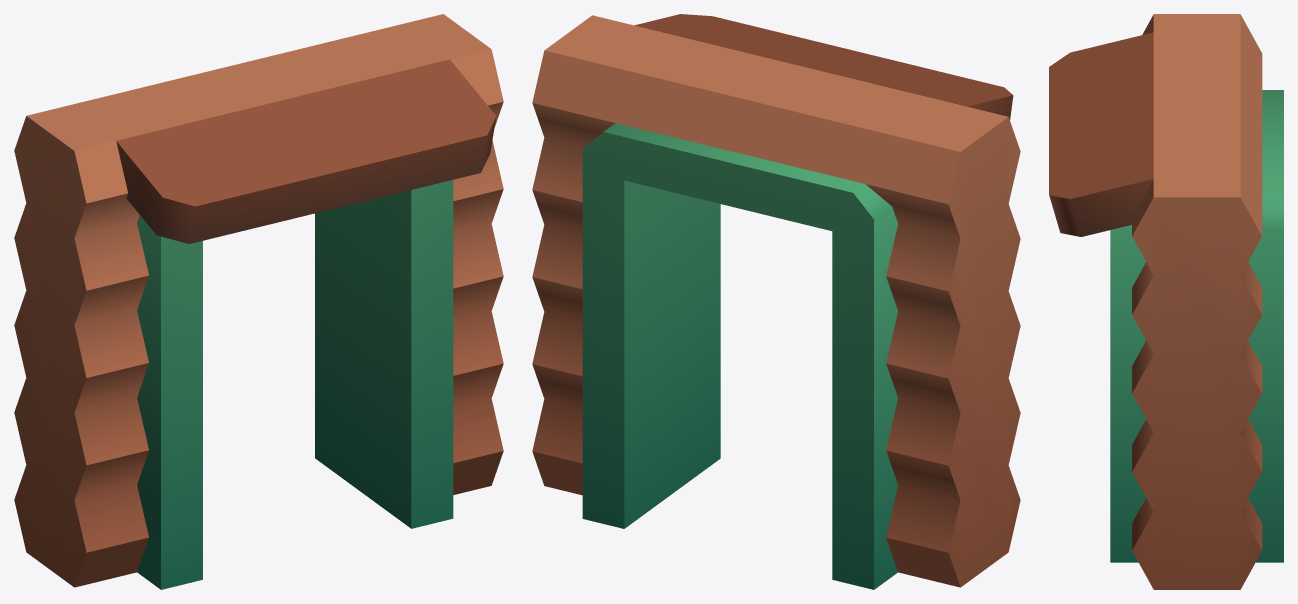
File: cabin-overhang-doorway.glb
3 renders of one model, left to right at view 1: azimuth 30°, elevation 25°; view 2: azimuth 150°, elevation 25°; view 3: azimuth 270°, elevation 25°, orthographic. The views are drawn at different scales.
Visible parts, largest first — view 1: cabin-overhang-doorway; view 2: cabin-overhang-doorway; view 3: cabin-overhang-doorway.
Part boxes in pixels (x1,y1,x2,y2): cabin-overhang-doorway: [14, 14, 503, 589]; cabin-overhang-doorway: [532, 14, 1020, 589]; cabin-overhang-doorway: [1049, 14, 1283, 589].
Size of the model in its own units: 1 by 1 by 0.5415.
